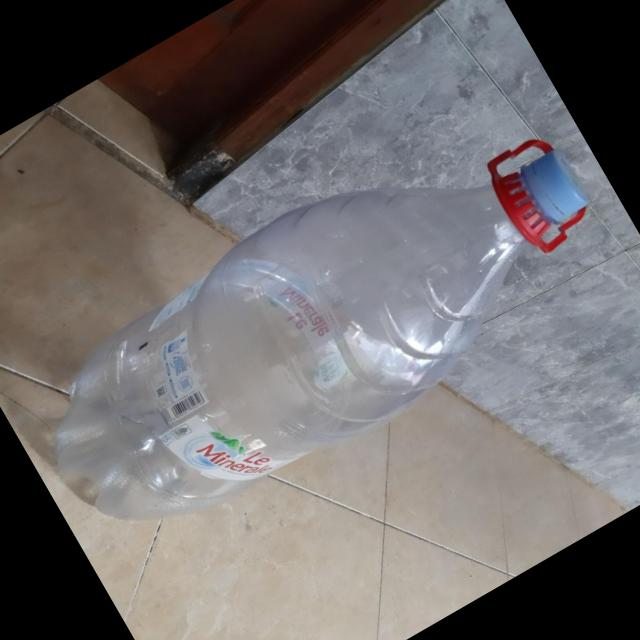Galon: (1, 76, 638, 578)
